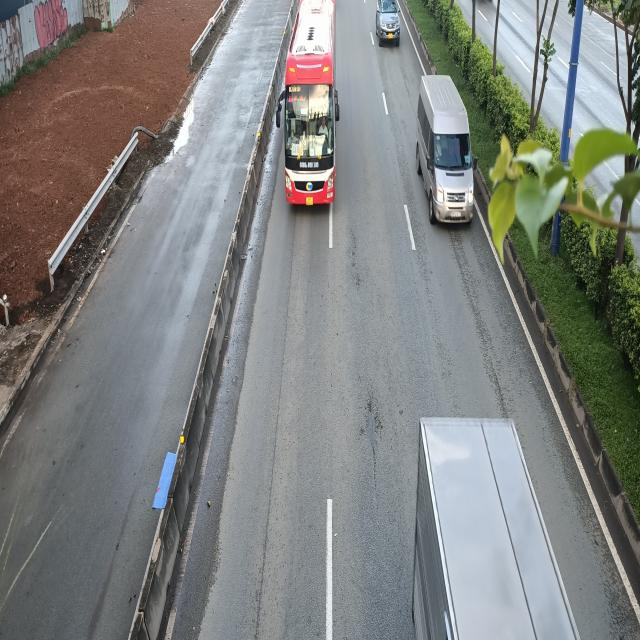car: (375, 0, 401, 45)
coach: (276, 0, 340, 205)
van: (416, 75, 477, 226)
